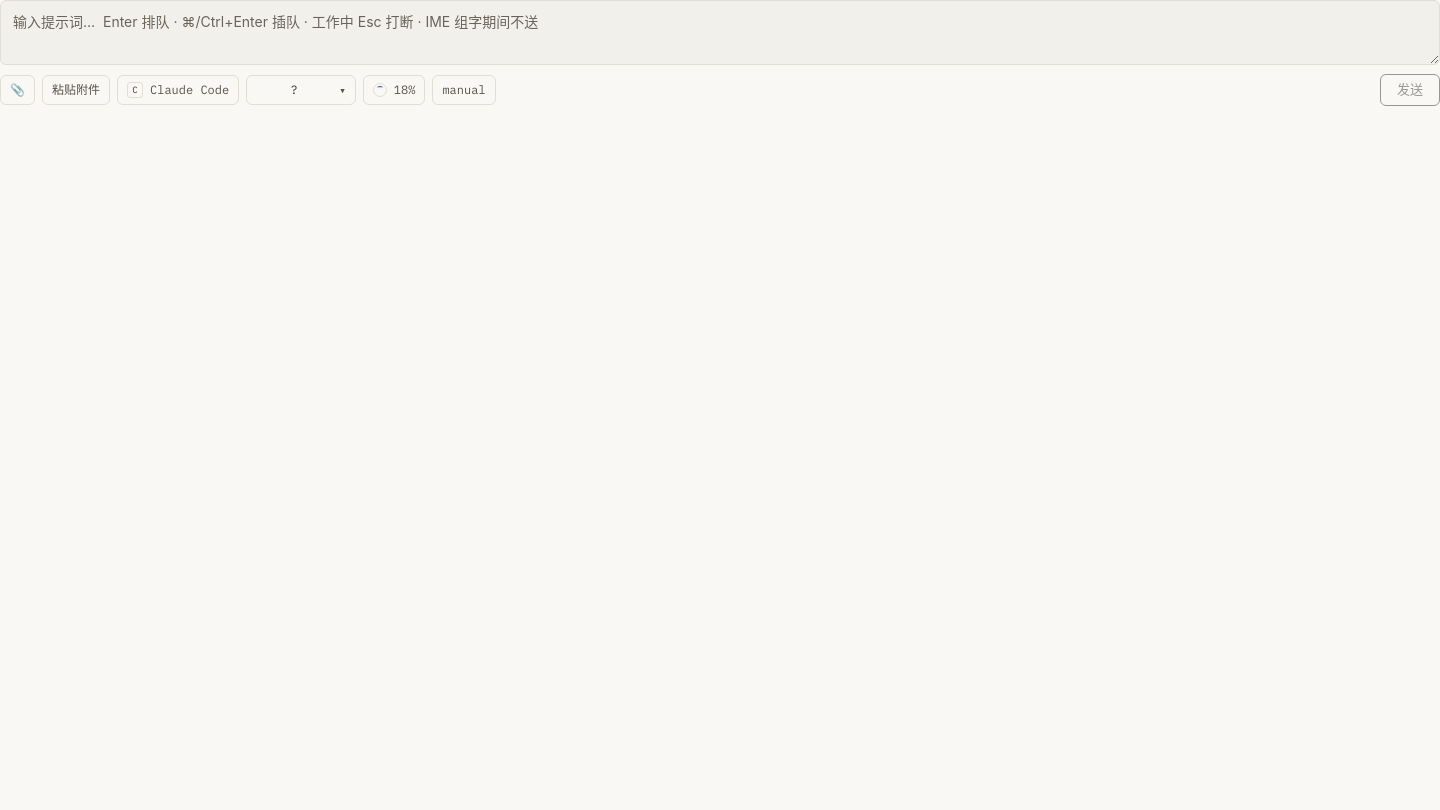
it: Composer context usage chip › opens the popover on hover for precise pointers and closes on leave
Hover over the button with test id "context-chip" at (394, 90), box [363,75,425,105]
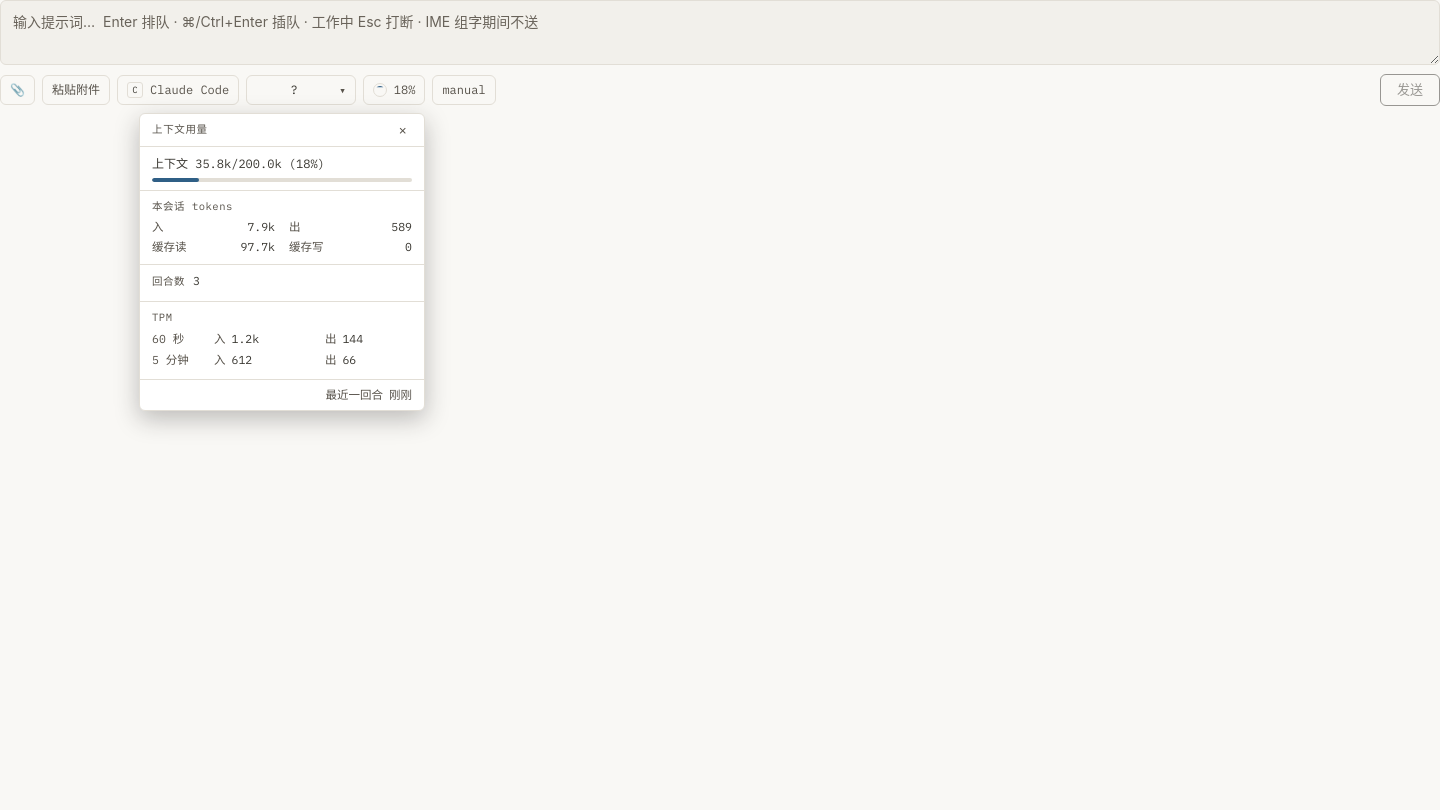
Expected: the dialog with test id "context-usage-popover" is shown, [139,113,425,411]
Move the pointer off the button with test id "context-chip", box [363,75,425,105]
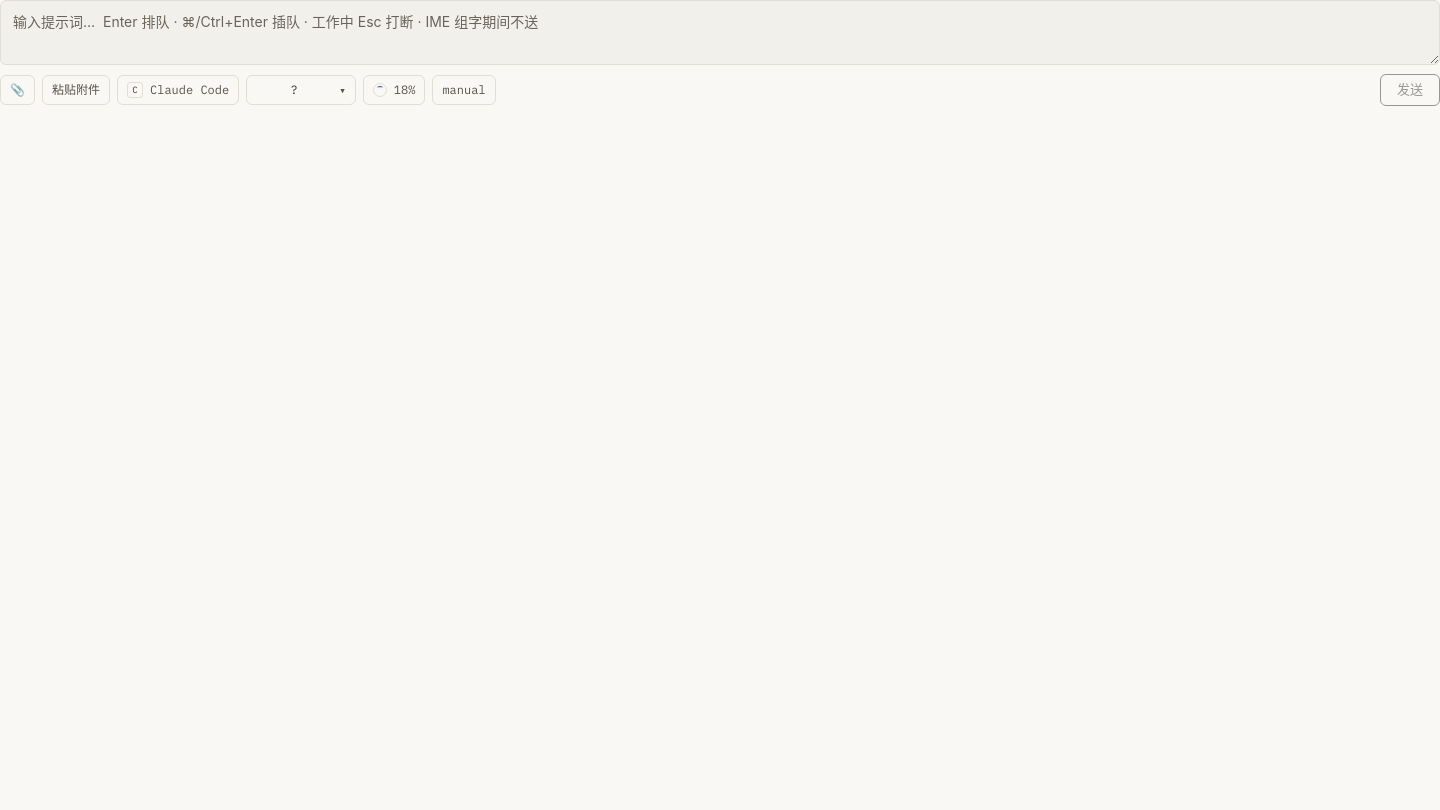
Expected: the dialog with test id "context-usage-popover" is gone
